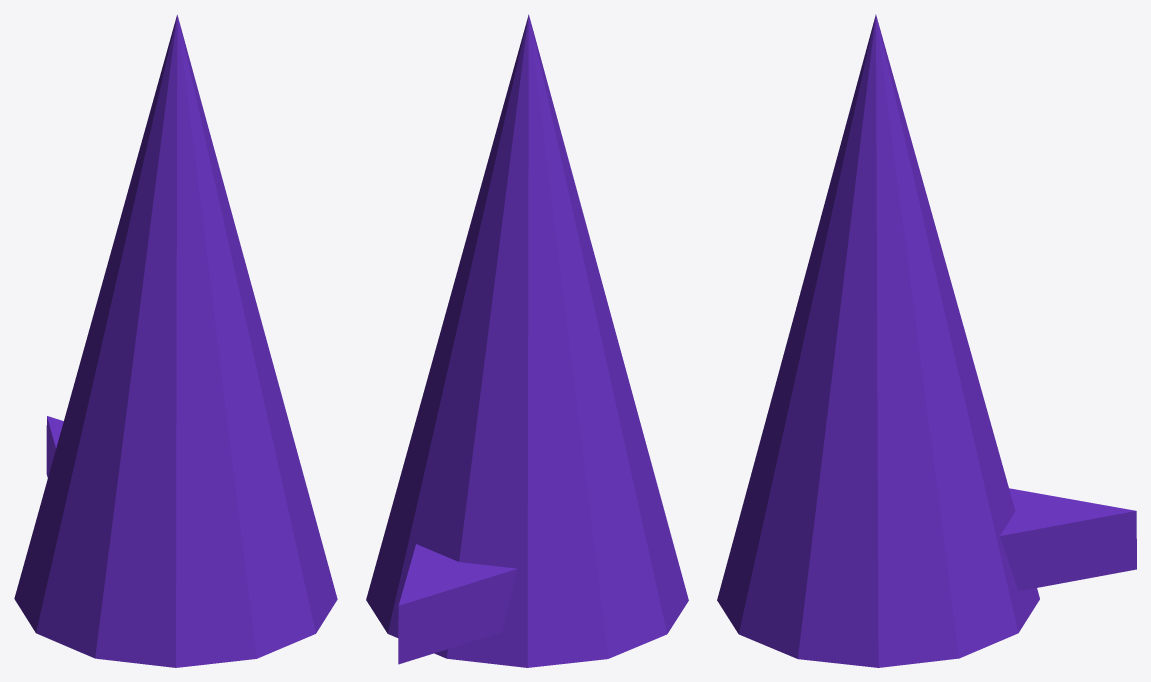
File: PlayerPlaceholder.fbx
3 views of the same model, side by side, from view 1: azimuth 30°, elevation 25°; view 2: azimuth 150°, elevation 25°; view 3: azimuth 270°, elevation 25° (orthographic).
Visible parts, largest first — view 1: PlayerPlaceholder; view 2: PlayerPlaceholder; view 3: PlayerPlaceholder.
Part boxes in pixels (box(x1,y1,x2,y2)): PlayerPlaceholder: box(14, 14, 337, 667); PlayerPlaceholder: box(366, 14, 688, 667); PlayerPlaceholder: box(717, 14, 1136, 667).
Size of the model in its own units: 200 by 130 by 100.
